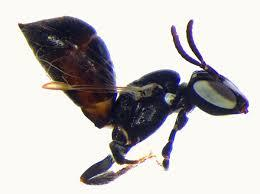Braunsapis: (15, 6, 248, 185)
